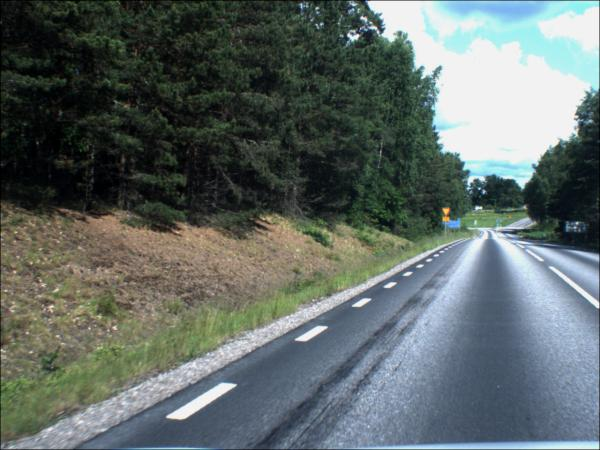GIVE_WAY: (442, 208, 450, 219)
